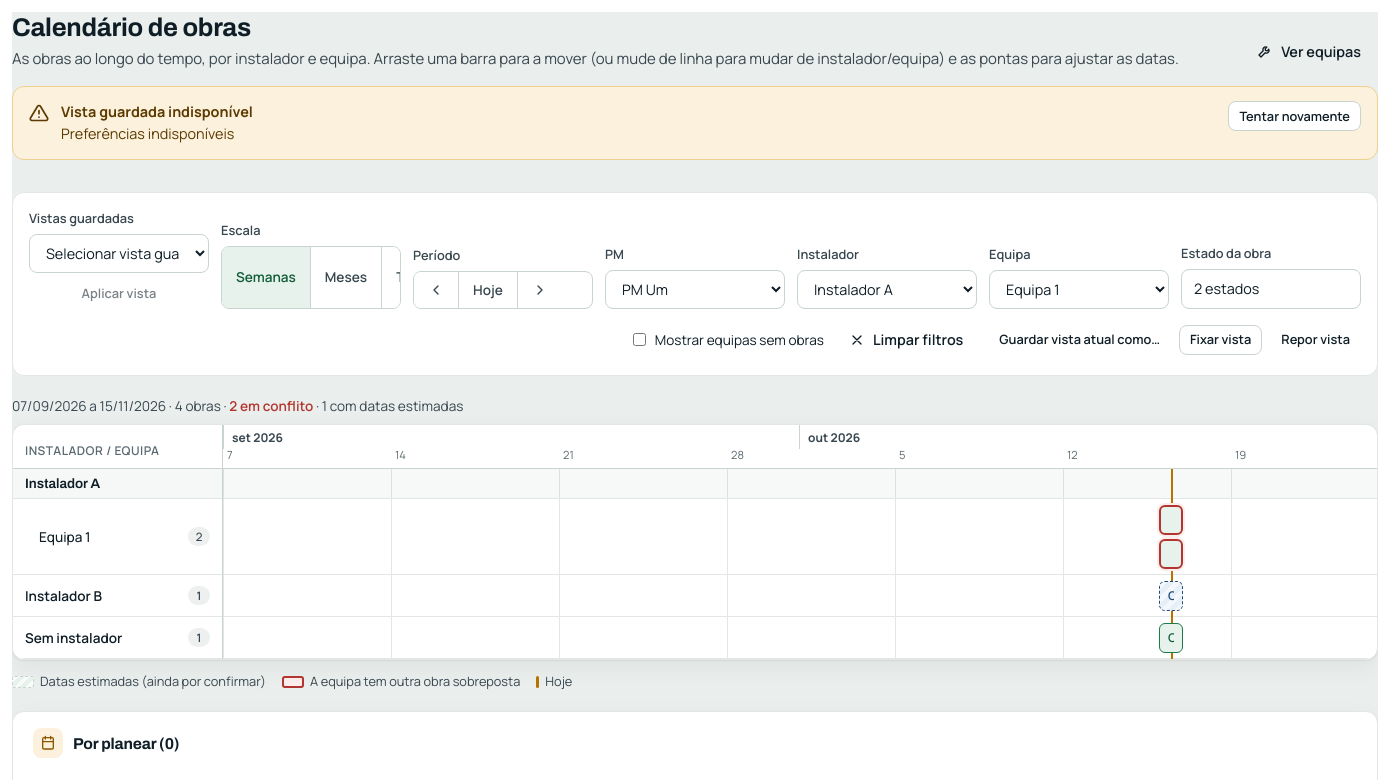
Test: Works (calendário de obras) › lê janela, escala e filtros do URL (vista partilhável)
This screenshot has width=1378, height=780.
Expected: the dropdown labelled "PM" shows "PM Um", [605,270,785,309]
Click the button "2 estados".
click(1271, 289)  # box [1181,269,1361,309]
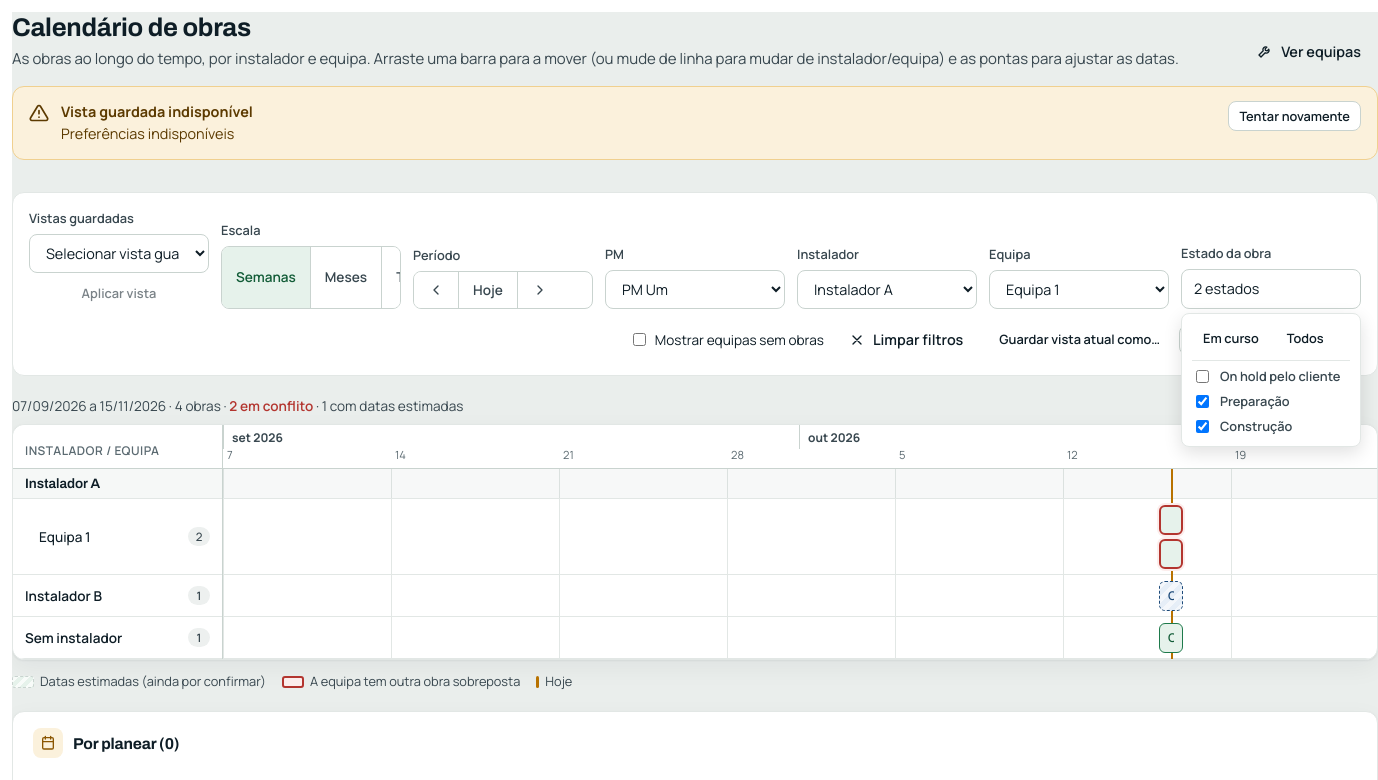
Expected: the checkbox labelled "Construção" is checked, [1196,420,1209,433]
